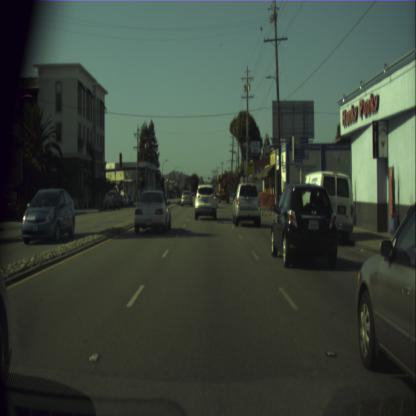off: (208, 176, 210, 180), (201, 176, 202, 180)
